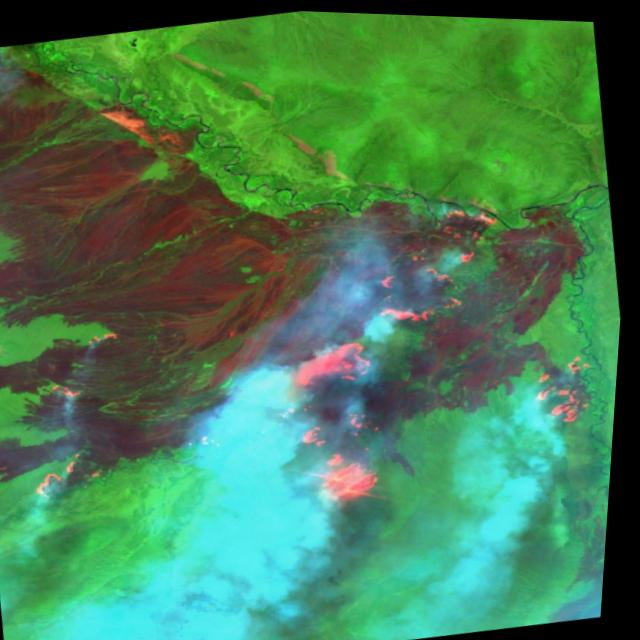fire: (207, 180, 630, 549)
